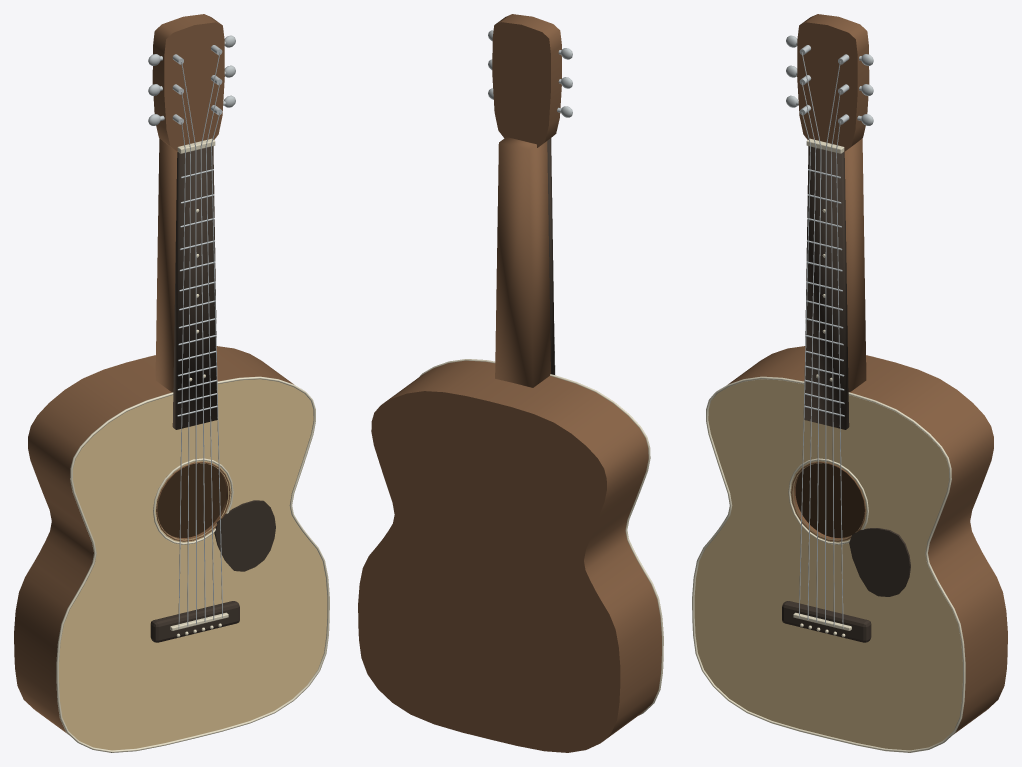
Rendered from guitar_dreadnought_acoustic.glb.
3 views of the same model, side by side, from view 1: azimuth 30°, elevation 25°; view 2: azimuth 150°, elevation 25°; view 3: azimuth 330°, elevation 25° (orthographic). The views are drawn at different scales.
Visible parts, largest first — view 1: DreadnoughtGuitar_Hollow_Acoustic_Body, DreadnoughtGuitar_Fingerboard, DreadnoughtGuitar_Paddle_Headstock, DreadnoughtGuitar_Wooden_Neck, DreadnoughtGuitar_Front_Edge_Binding, DreadnoughtGuitar_Plain_Pickguard, DreadnoughtGuitar_Pin_Bridge, DreadnoughtGuitar_String.002, DreadnoughtGuitar_String.003, DreadnoughtGuitar_String.001, DreadnoughtGuitar_String.004, DreadnoughtGuitar_String (+2 smaller); view 2: DreadnoughtGuitar_Hollow_Acoustic_Body, DreadnoughtGuitar_Wooden_Neck, DreadnoughtGuitar_Paddle_Headstock, DreadnoughtGuitar_Front_Edge_Binding, DreadnoughtGuitar_Fingerboard; view 3: DreadnoughtGuitar_Hollow_Acoustic_Body, DreadnoughtGuitar_Fingerboard, DreadnoughtGuitar_Paddle_Headstock, DreadnoughtGuitar_Wooden_Neck, DreadnoughtGuitar_Front_Edge_Binding, DreadnoughtGuitar_Plain_Pickguard, DreadnoughtGuitar_Pin_Bridge, DreadnoughtGuitar_String.003, DreadnoughtGuitar_String.002, DreadnoughtGuitar_String.004, DreadnoughtGuitar_String.001, DreadnoughtGuitar_String.005 (+2 smaller).
Boxes of the visible parts, x1=… form: DreadnoughtGuitar_Hollow_Acoustic_Body: x1=14, y1=346, x2=327, y2=750; DreadnoughtGuitar_Fingerboard: x1=173, y1=146, x2=217, y2=429; DreadnoughtGuitar_Paddle_Headstock: x1=152, y1=14, x2=224, y2=151; DreadnoughtGuitar_Wooden_Neck: x1=155, y1=138, x2=177, y2=426; DreadnoughtGuitar_Front_Edge_Binding: x1=56, y1=376, x2=329, y2=752; DreadnoughtGuitar_Plain_Pickguard: x1=214, y1=500, x2=275, y2=571; DreadnoughtGuitar_Pin_Bridge: x1=150, y1=601, x2=239, y2=642; DreadnoughtGuitar_String.002: x1=181, y1=61, x2=196, y2=624; DreadnoughtGuitar_String.003: x1=200, y1=52, x2=220, y2=621; DreadnoughtGuitar_String.001: x1=181, y1=91, x2=190, y2=626; DreadnoughtGuitar_String.004: x1=205, y1=82, x2=220, y2=619; DreadnoughtGuitar_String: x1=178, y1=121, x2=185, y2=628; DreadnoughtGuitar_Hollow_Acoustic_Body: x1=358, y1=360, x2=661, y2=752; DreadnoughtGuitar_Wooden_Neck: x1=495, y1=137, x2=550, y2=387; DreadnoughtGuitar_Paddle_Headstock: x1=492, y1=14, x2=561, y2=147; DreadnoughtGuitar_Front_Edge_Binding: x1=419, y1=359, x2=663, y2=715; DreadnoughtGuitar_Fingerboard: x1=547, y1=138, x2=554, y2=374; DreadnoughtGuitar_Hollow_Acoustic_Body: x1=694, y1=346, x2=1007, y2=750; DreadnoughtGuitar_Fingerboard: x1=804, y1=146, x2=848, y2=429; DreadnoughtGuitar_Paddle_Headstock: x1=797, y1=14, x2=869, y2=151; DreadnoughtGuitar_Wooden_Neck: x1=844, y1=138, x2=866, y2=426; DreadnoughtGuitar_Front_Edge_Binding: x1=692, y1=376, x2=965, y2=752; DreadnoughtGuitar_Plain_Pickguard: x1=849, y1=528, x2=910, y2=596; DreadnoughtGuitar_Pin_Bridge: x1=782, y1=601, x2=871, y2=642; DreadnoughtGuitar_String.003: x1=825, y1=61, x2=840, y2=624; DreadnoughtGuitar_String.002: x1=801, y1=52, x2=821, y2=621; DreadnoughtGuitar_String.004: x1=831, y1=91, x2=840, y2=626; DreadnoughtGuitar_String.001: x1=801, y1=82, x2=816, y2=619; DreadnoughtGuitar_String.005: x1=836, y1=121, x2=843, y2=628.
Size of the model in its own units: 0.3992 by 0.9988 by 0.1306.
